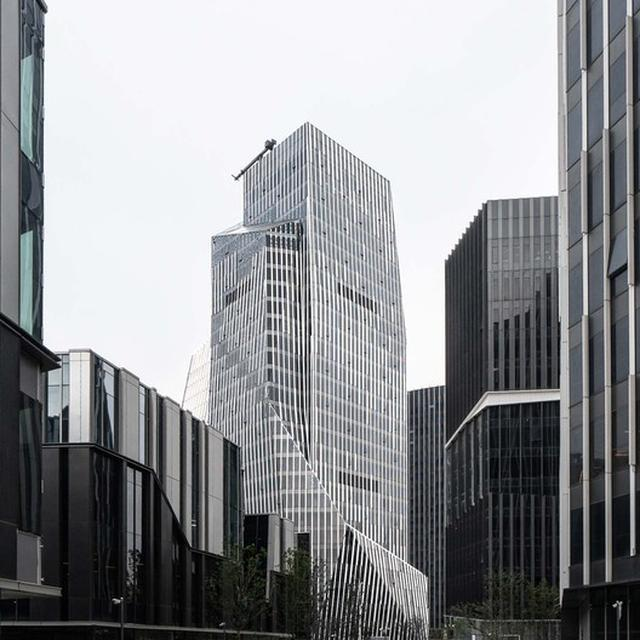building: (207, 121, 433, 640), (41, 346, 242, 640), (555, 0, 640, 640), (443, 193, 561, 640), (0, 0, 41, 626)
